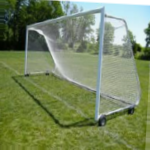goals: (24, 5, 144, 119)
